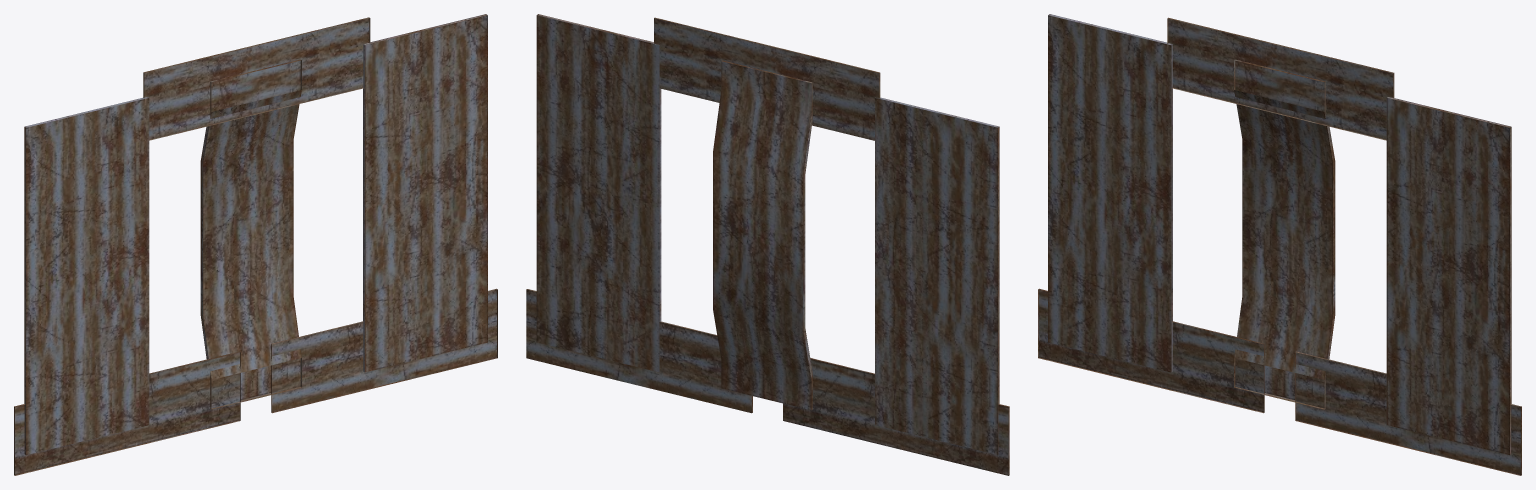
The model's file is metal_vertical_embrasure_textured.glb.
The picture shows the model from 3 angles, left to right: view 1: azimuth 30°, elevation 25°; view 2: azimuth 150°, elevation 25°; view 3: azimuth 330°, elevation 25°; orthographic projection.
Parts seen in each view (by area): view 1: Plane.002; view 2: Plane.002; view 3: Plane.002.
Part boxes in pixels (box(x1,y1,x2,y2)): Plane.002: box(14, 14, 497, 475); Plane.002: box(526, 14, 1009, 475); Plane.002: box(1038, 14, 1521, 475).
Bounding box in the file's own units: 1.93 × 1.42 × 0.0762.
Materials: 1 (1 with a texture image).
